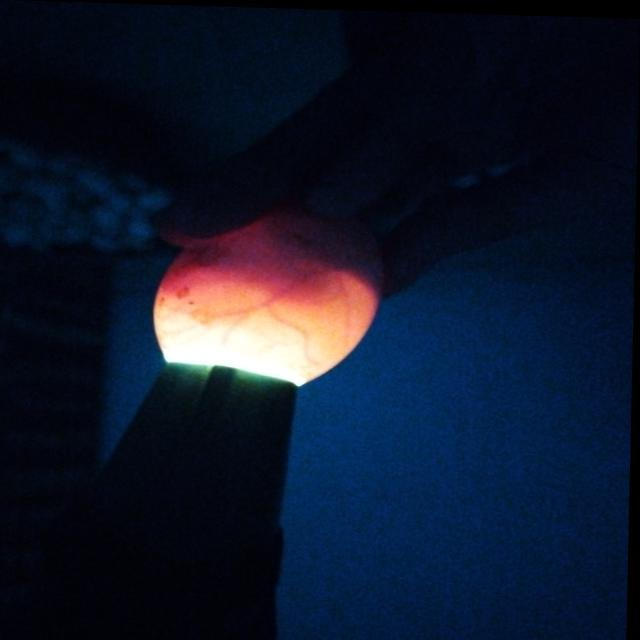Embriao: (265, 200, 390, 301)
